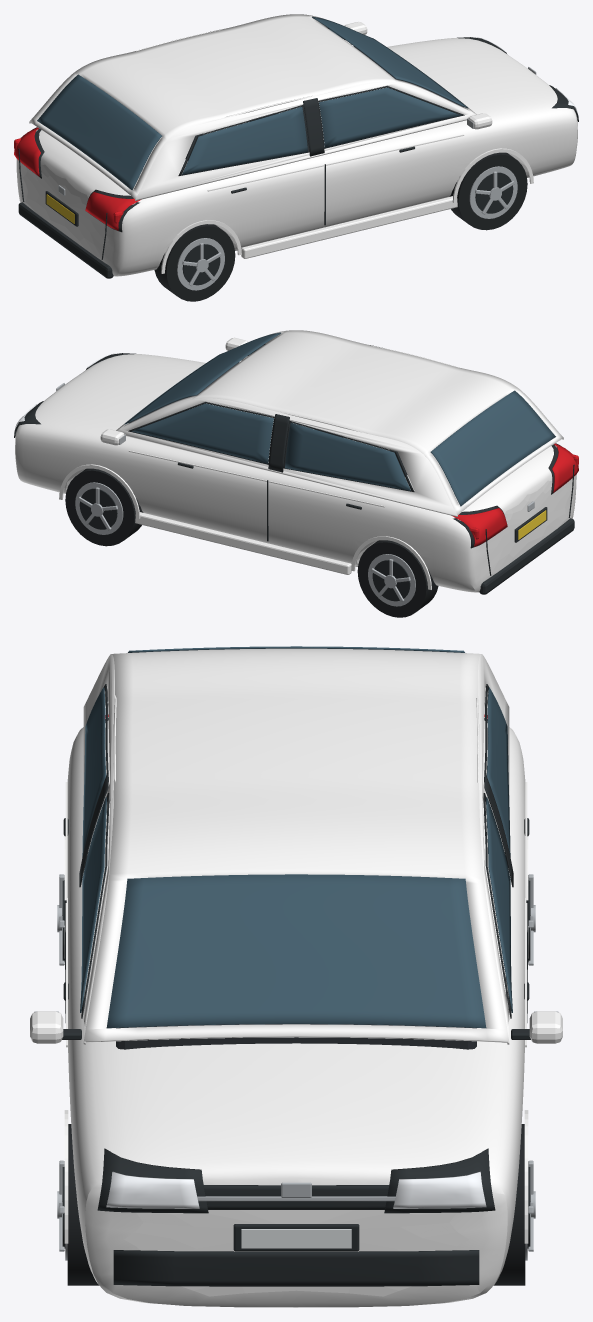
The model's file is vw-golf.glb.
3 renders of one model, top to bottom at view 1: azimuth 30°, elevation 25°; view 2: azimuth 150°, elevation 25°; view 3: azimuth 270°, elevation 25°, orthographic. The views are drawn at different scales.
Parts seen in each view (by area): view 1: FleetBody, FleetGlass, FleetTrim, FleetRubber, FleetLights; view 2: FleetBody, FleetGlass, FleetTrim, FleetRubber, FleetLights; view 3: FleetBody, FleetGlass, FleetTrim, FleetLights, FleetRubber, FleetInterior.
Part boxes in pixels (box(x1,y1,x2,y2)): FleetBody: box(16, 14, 577, 276); FleetGlass: box(37, 16, 468, 190); FleetTrim: box(18, 28, 578, 290); FleetRubber: box(154, 152, 527, 301); FleetLights: box(14, 37, 578, 230); FleetBody: box(15, 330, 576, 592); FleetGlass: box(124, 332, 555, 506); FleetTrim: box(14, 344, 574, 606); FleetRubber: box(65, 468, 438, 617); FleetLights: box(14, 353, 578, 546); FleetBody: box(30, 648, 562, 1307); FleetGlass: box(80, 646, 512, 1028); FleetTrim: box(34, 684, 558, 1286); FleetLights: box(105, 714, 487, 1248); FleetRubber: box(67, 1124, 525, 1285); FleetInterior: box(116, 1024, 476, 1049).
Size of the model in its own units: 4.26 by 1.45 by 2.07.
